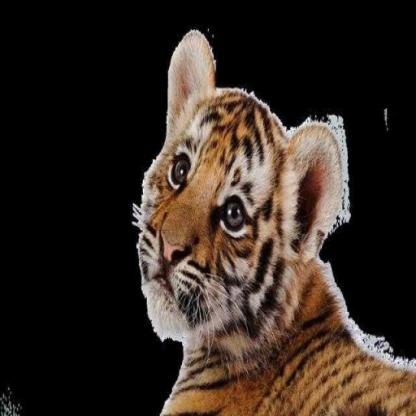Tiger: (98, 28, 415, 416)
